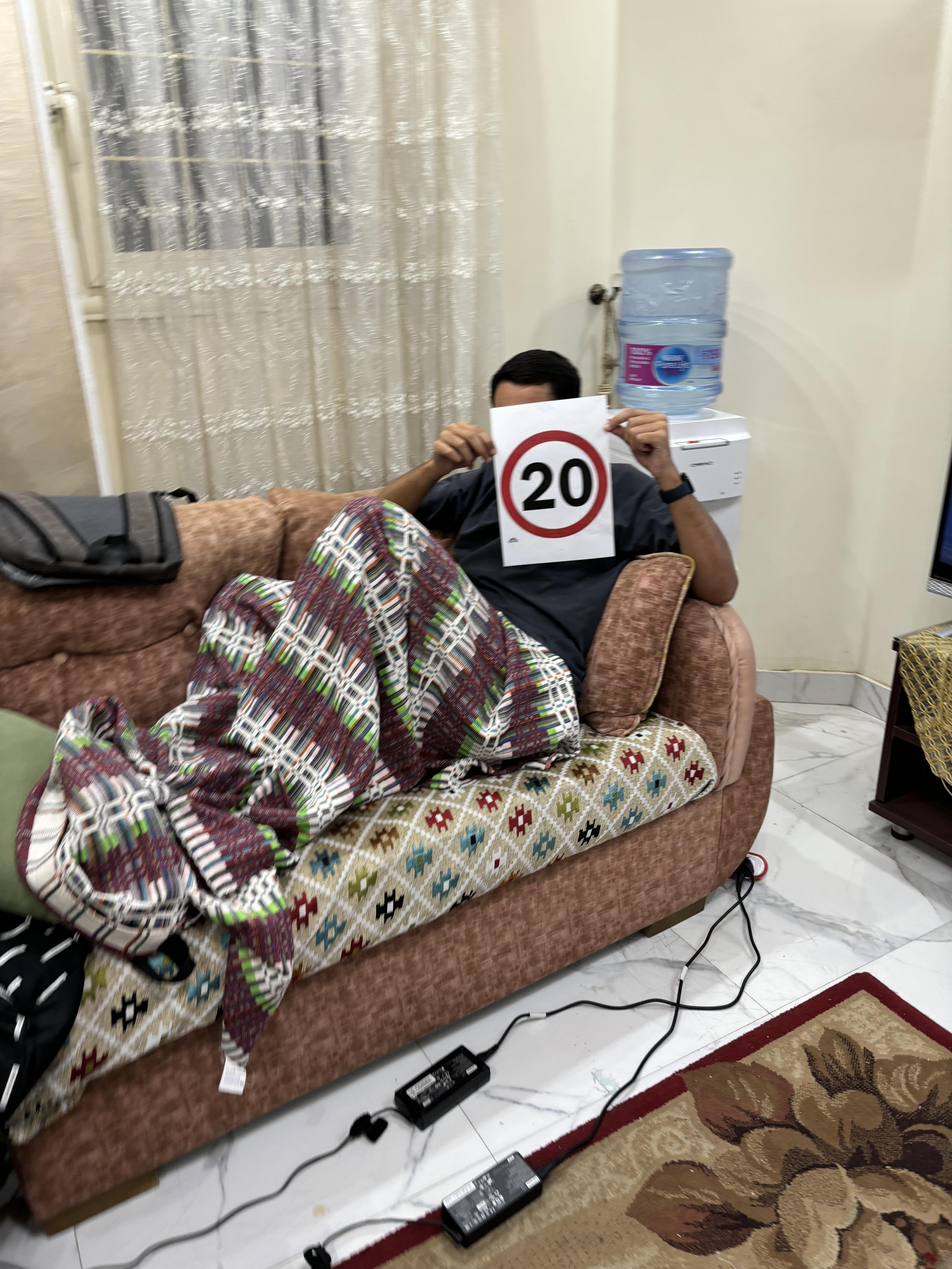20-Speed: (500, 425, 616, 543)
